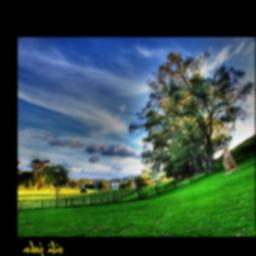Sparrow: (223, 147, 240, 175)
